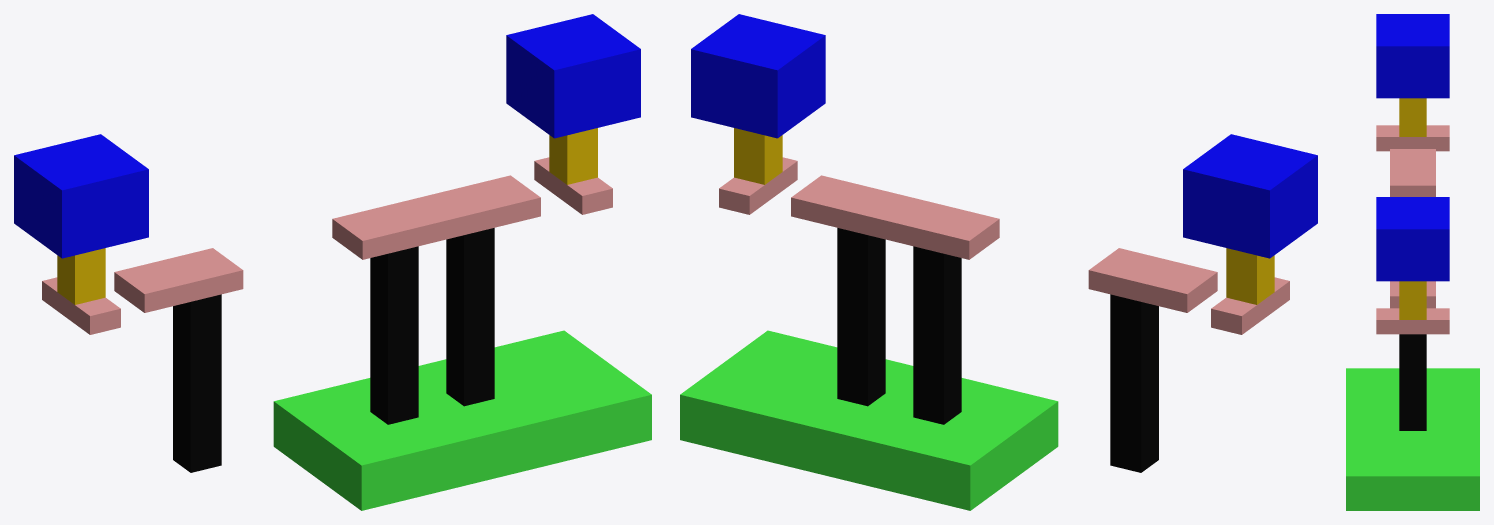
Rendered from sky130_fd_sc_hd__tap_1.obj.
3 views of the same model, side by side, from view 1: azimuth 30°, elevation 25°; view 2: azimuth 150°, elevation 25°; view 3: azimuth 270°, elevation 25° (orthographic). The views are drawn at different scales.
Visible parts, largest first — view 1: nwell, metal1, licon, li, mcon; view 2: nwell, metal1, licon, li, mcon; view 3: nwell, metal1, li, licon, mcon.
Part boxes in pixels (x1,y1,x2,y2): nwell: (273, 330, 651, 510); metal1: (14, 14, 640, 258); licon: (173, 228, 494, 472); li: (42, 157, 612, 334); mcon: (57, 128, 597, 304); nwell: (680, 330, 1058, 510); metal1: (691, 14, 1317, 258); licon: (837, 228, 1158, 472); li: (719, 157, 1289, 334); mcon: (734, 128, 1274, 304); nwell: (1346, 368, 1479, 510); metal1: (1376, 14, 1449, 281); li: (1376, 125, 1449, 334); licon: (1399, 334, 1426, 430); mcon: (1399, 98, 1426, 319).
Size of the model in its own units: 3.2 by 1.98 by 0.84.
